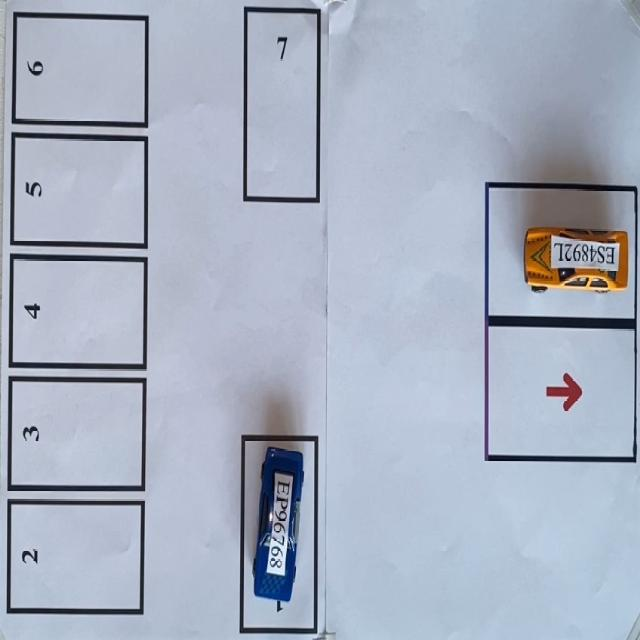car: (253, 447, 303, 610), (524, 227, 629, 292)
